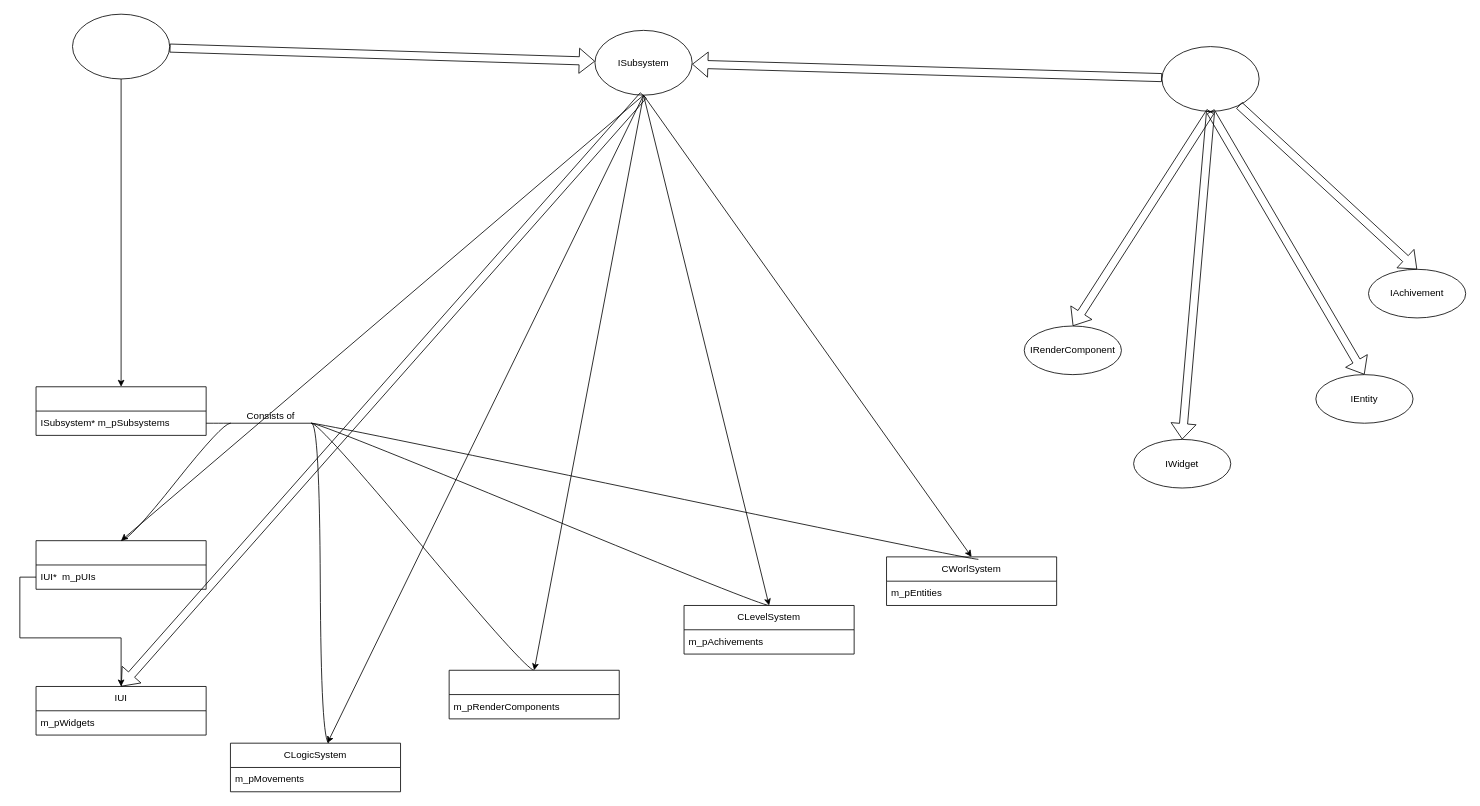
This 1480x806 diagram has some shape labels left out. Each missing label, with the box of its shape:
CGameSystem: (35, 386, 206, 435)
CRenderSystem: (448, 669, 619, 719)
CUISystem: (35, 540, 206, 589)
ISystem: (72, 13, 170, 79)
ISystemComponent: (1161, 46, 1259, 111)
